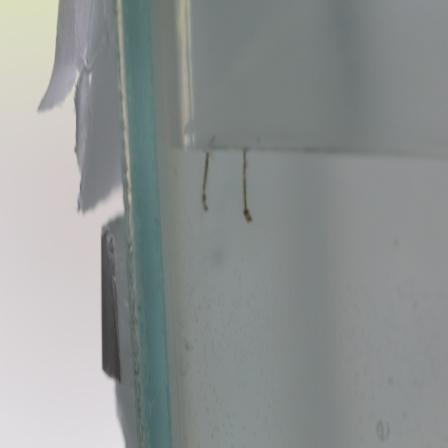Jentik-Nyamuk: (194, 148, 217, 218), (238, 144, 255, 226)
